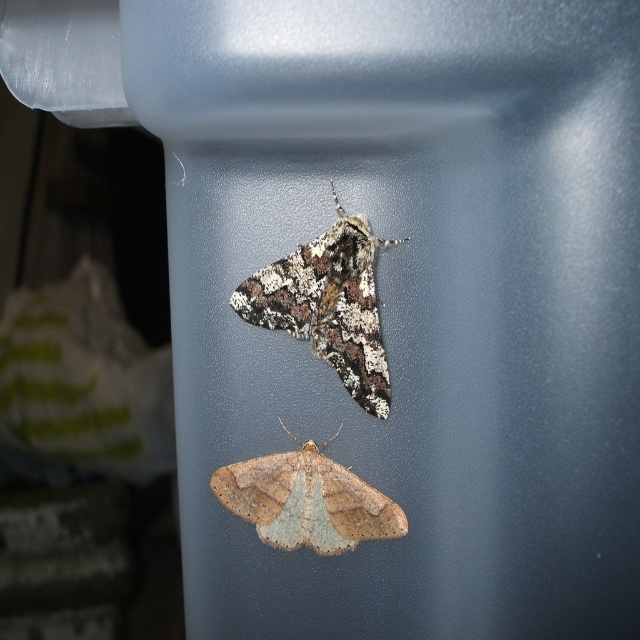Moths and butterflies: (228, 179, 410, 423), (211, 414, 407, 557)
